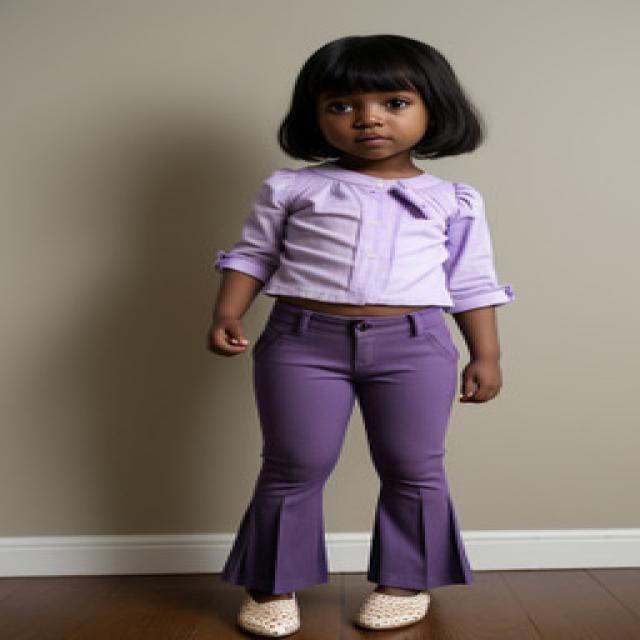Ai human 2: (187, 11, 527, 640)
